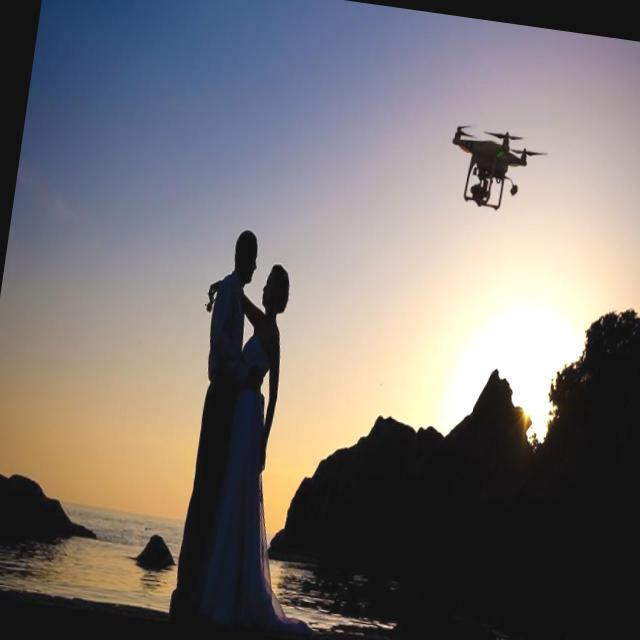drone: (442, 122, 548, 220)
